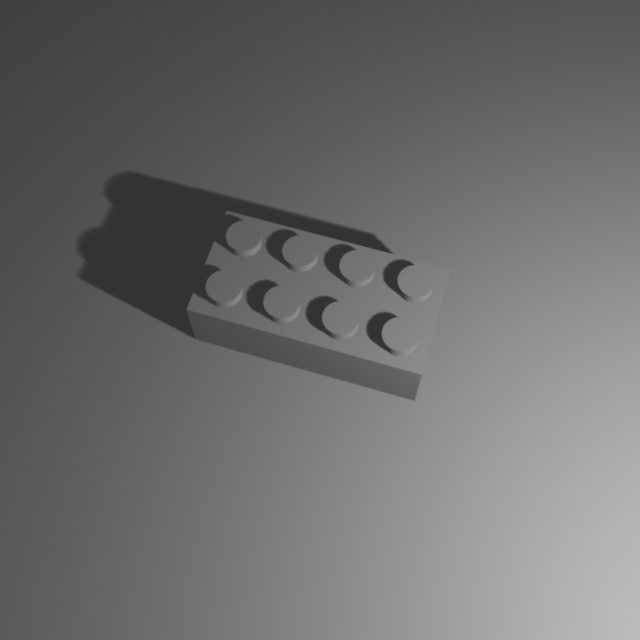lego_2x4: (185, 205, 452, 401)
